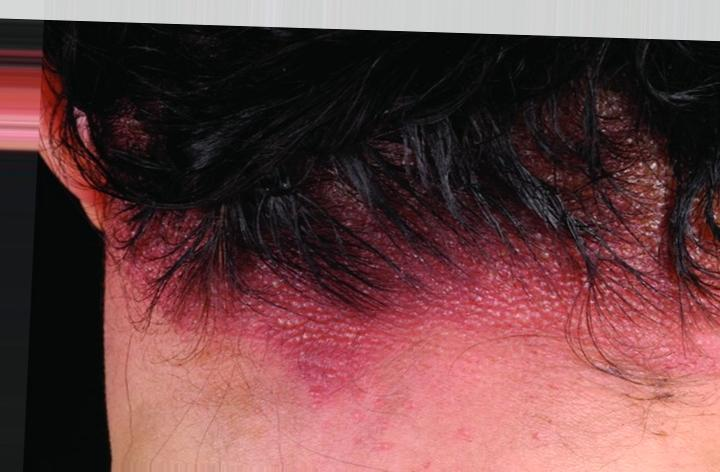Contact Dermatitis: (139, 164, 678, 355)
